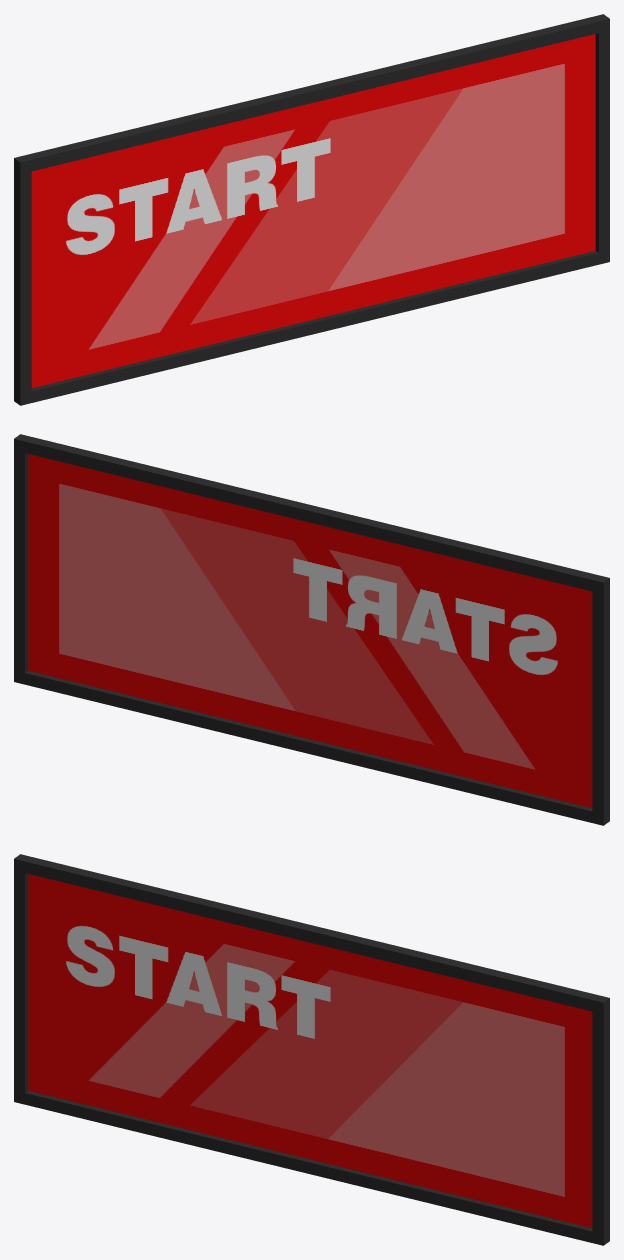
Rendered from startOutside.dae.
3 renders of one model, top to bottom at view 1: azimuth 30°, elevation 25°; view 2: azimuth 150°, elevation 25°; view 3: azimuth 330°, elevation 25°, orthographic.
Parts seen in each view (by area): view 1: START_BUTTON.1; view 2: START_BUTTON.1; view 3: START_BUTTON.1.
Boxes of the visible parts, <box> form: START_BUTTON.1: <box>14,14,609,405</box>; START_BUTTON.1: <box>14,434,609,825</box>; START_BUTTON.1: <box>14,854,609,1245</box>.
Size of the model in its own units: 1.19 by 0.4707 by 0.0225.
2 materials, 1 textured.
